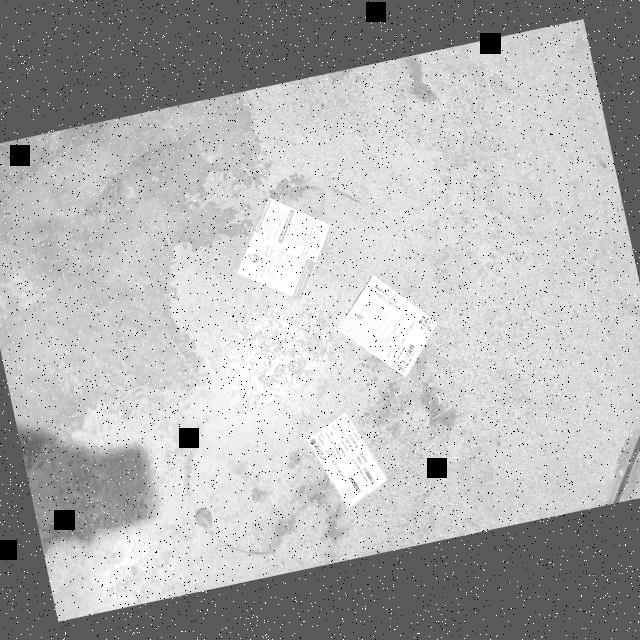scrap_paper: (322, 262, 444, 396), (217, 187, 344, 314), (300, 402, 393, 516)
